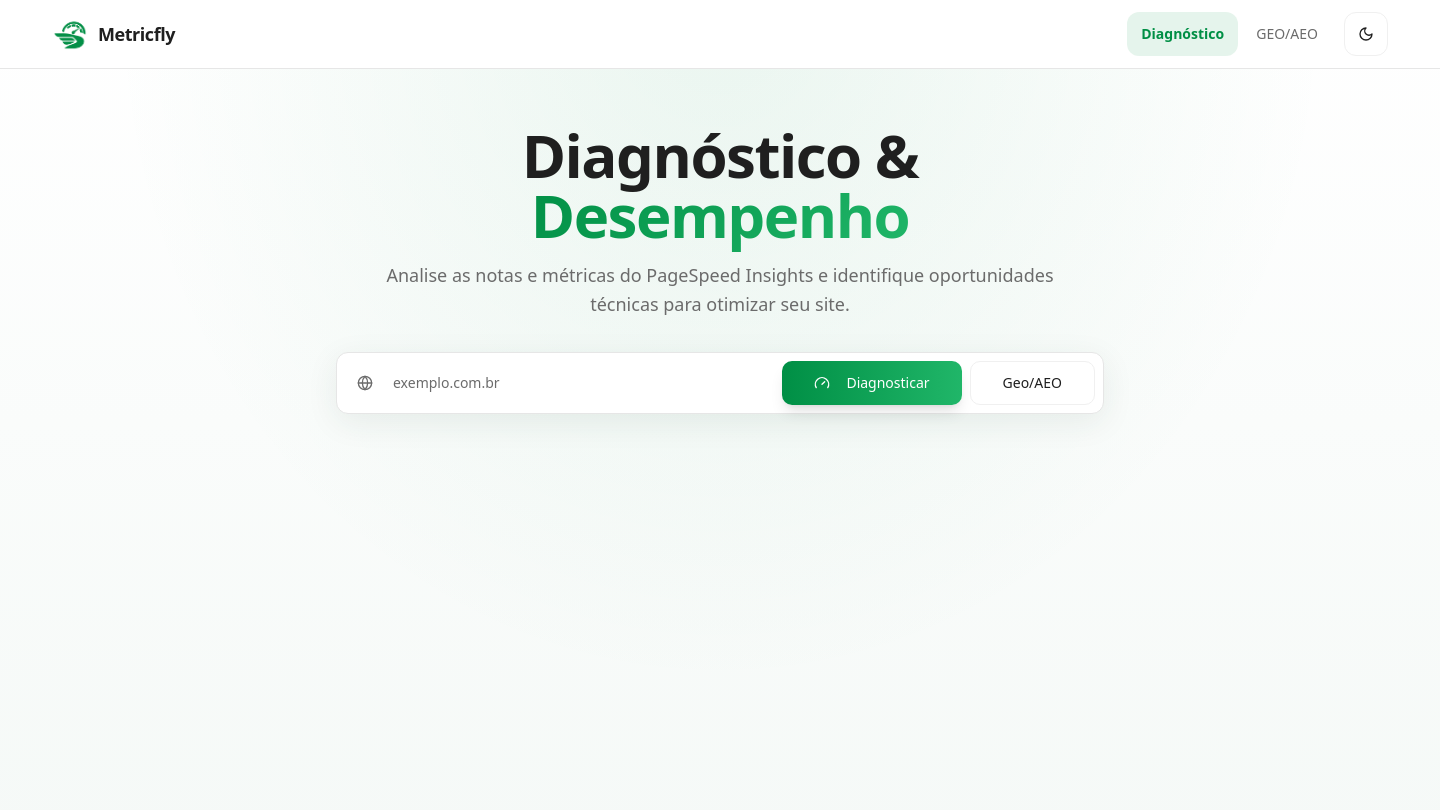
Test: quote asked for from the band, then the site typed in the form › shows a single popup when the report is ready
The width and height of the screenshot is (1440, 810).
Type "loja-exemplo.com.br" into the field with placeholder "exemplo.com.br". click: (572, 382)
box: [381, 362, 762, 402]
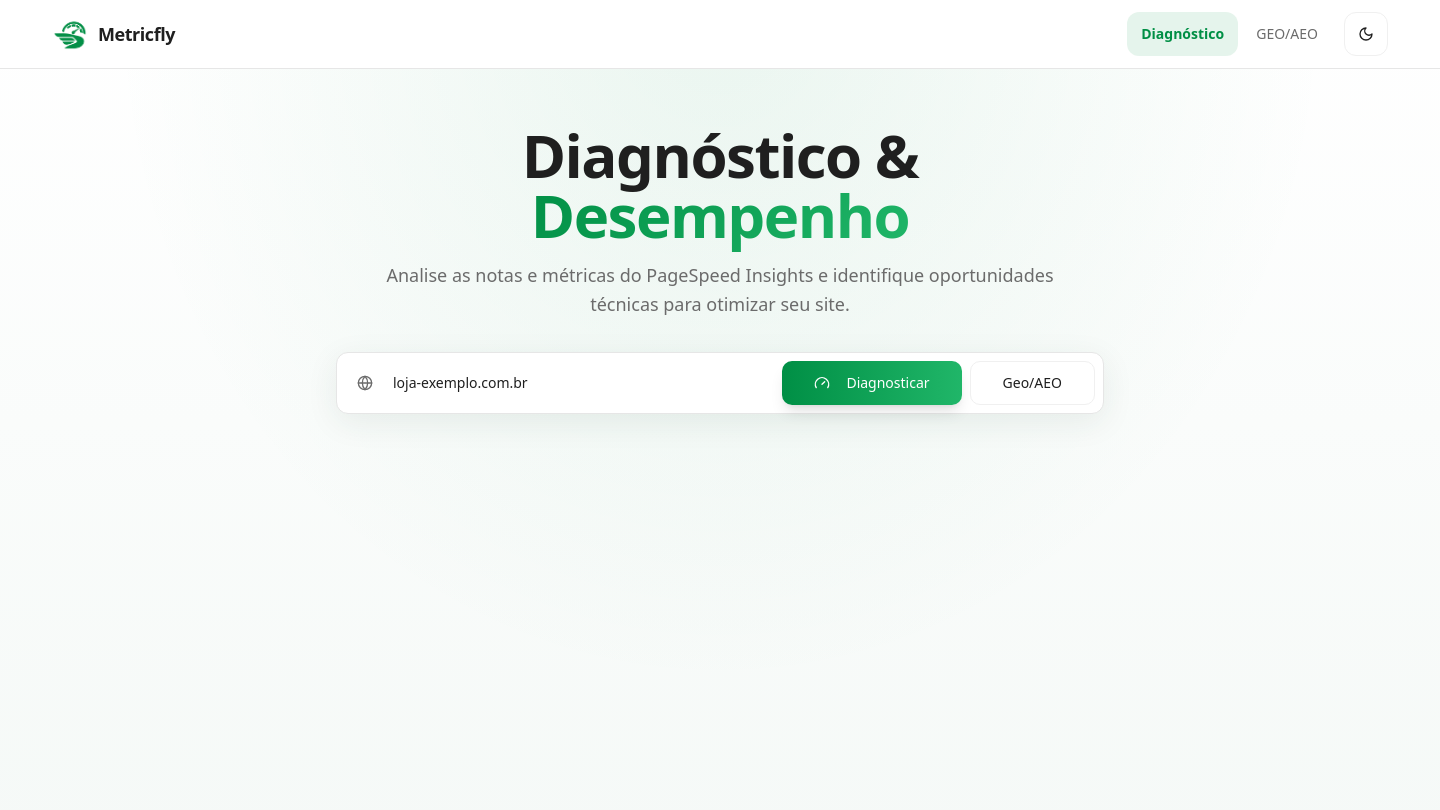
Click the button "Diagnosticar". click: (872, 382)
box: [782, 360, 962, 404]
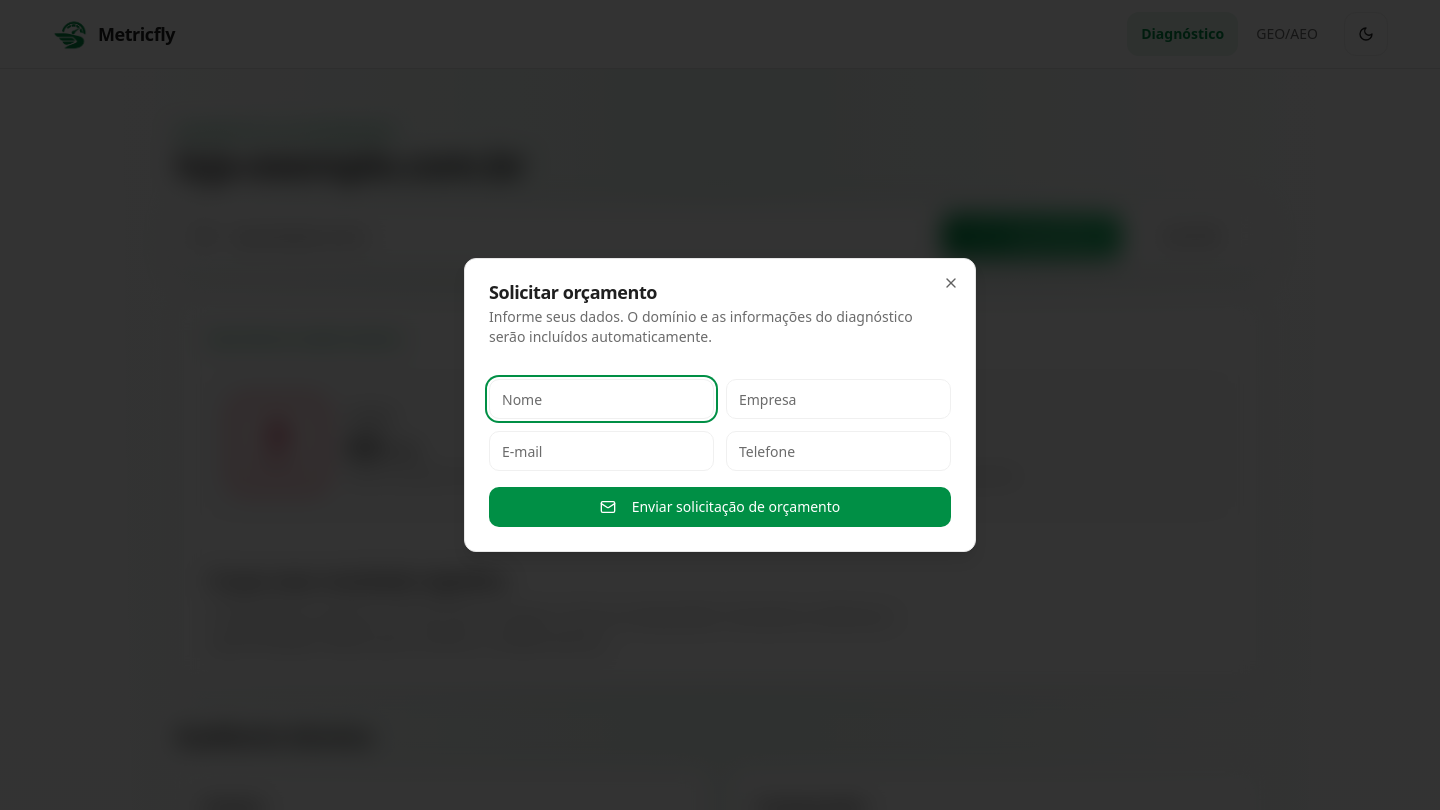
Expected: the number of dialogs is 1, [464, 258, 976, 552]
